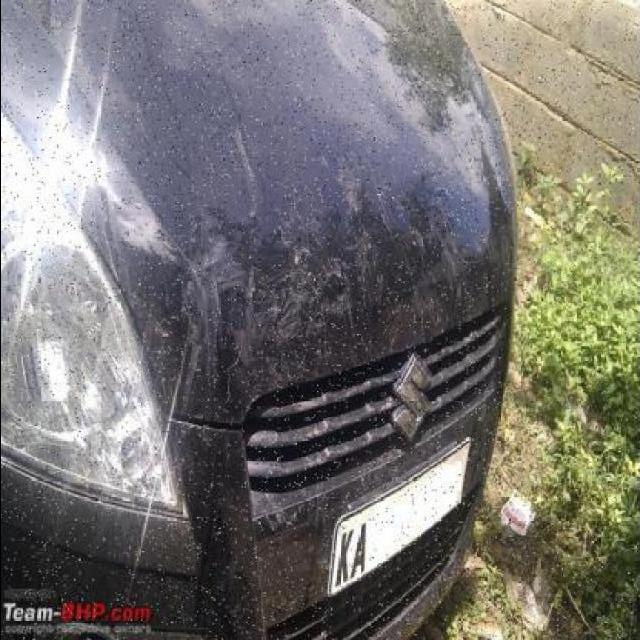bonnet-dent: (0, 0, 515, 480)
